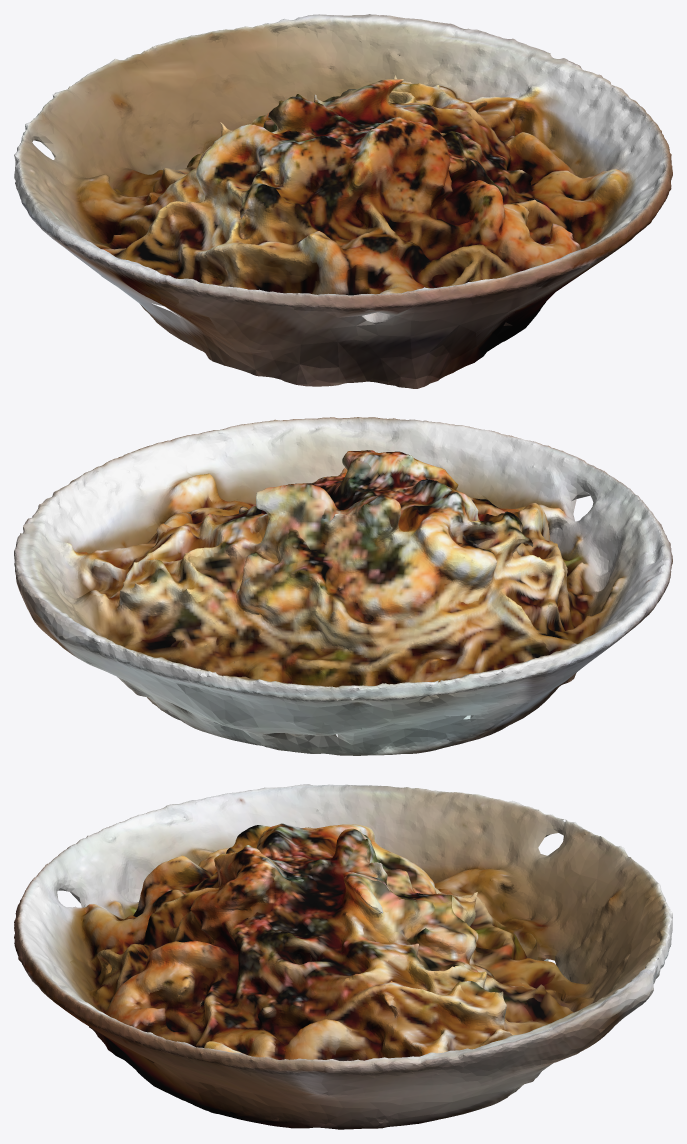
The model's file is Noodles.fbx.
3 renders of one model, top to bottom at view 1: azimuth 30°, elevation 25°; view 2: azimuth 150°, elevation 25°; view 3: azimuth 270°, elevation 25°, orthographic.
Parts seen in each view (by area): view 1: mesh; view 2: mesh; view 3: mesh.
Part boxes in pixels (<box>): mesh: <box>14,14,672,388</box>; mesh: <box>14,417,672,755</box>; mesh: <box>14,784,672,1129</box>.
Bounding box in the file's own units: 0.2335 × 0.0738 × 0.2311.
Materials: 1 (1 with a texture image).
